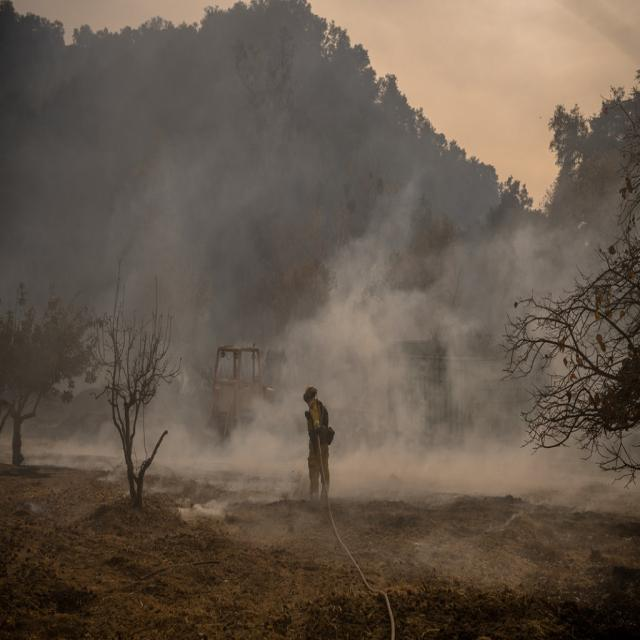Smoke: (314, 195, 640, 493), (37, 140, 305, 494)
